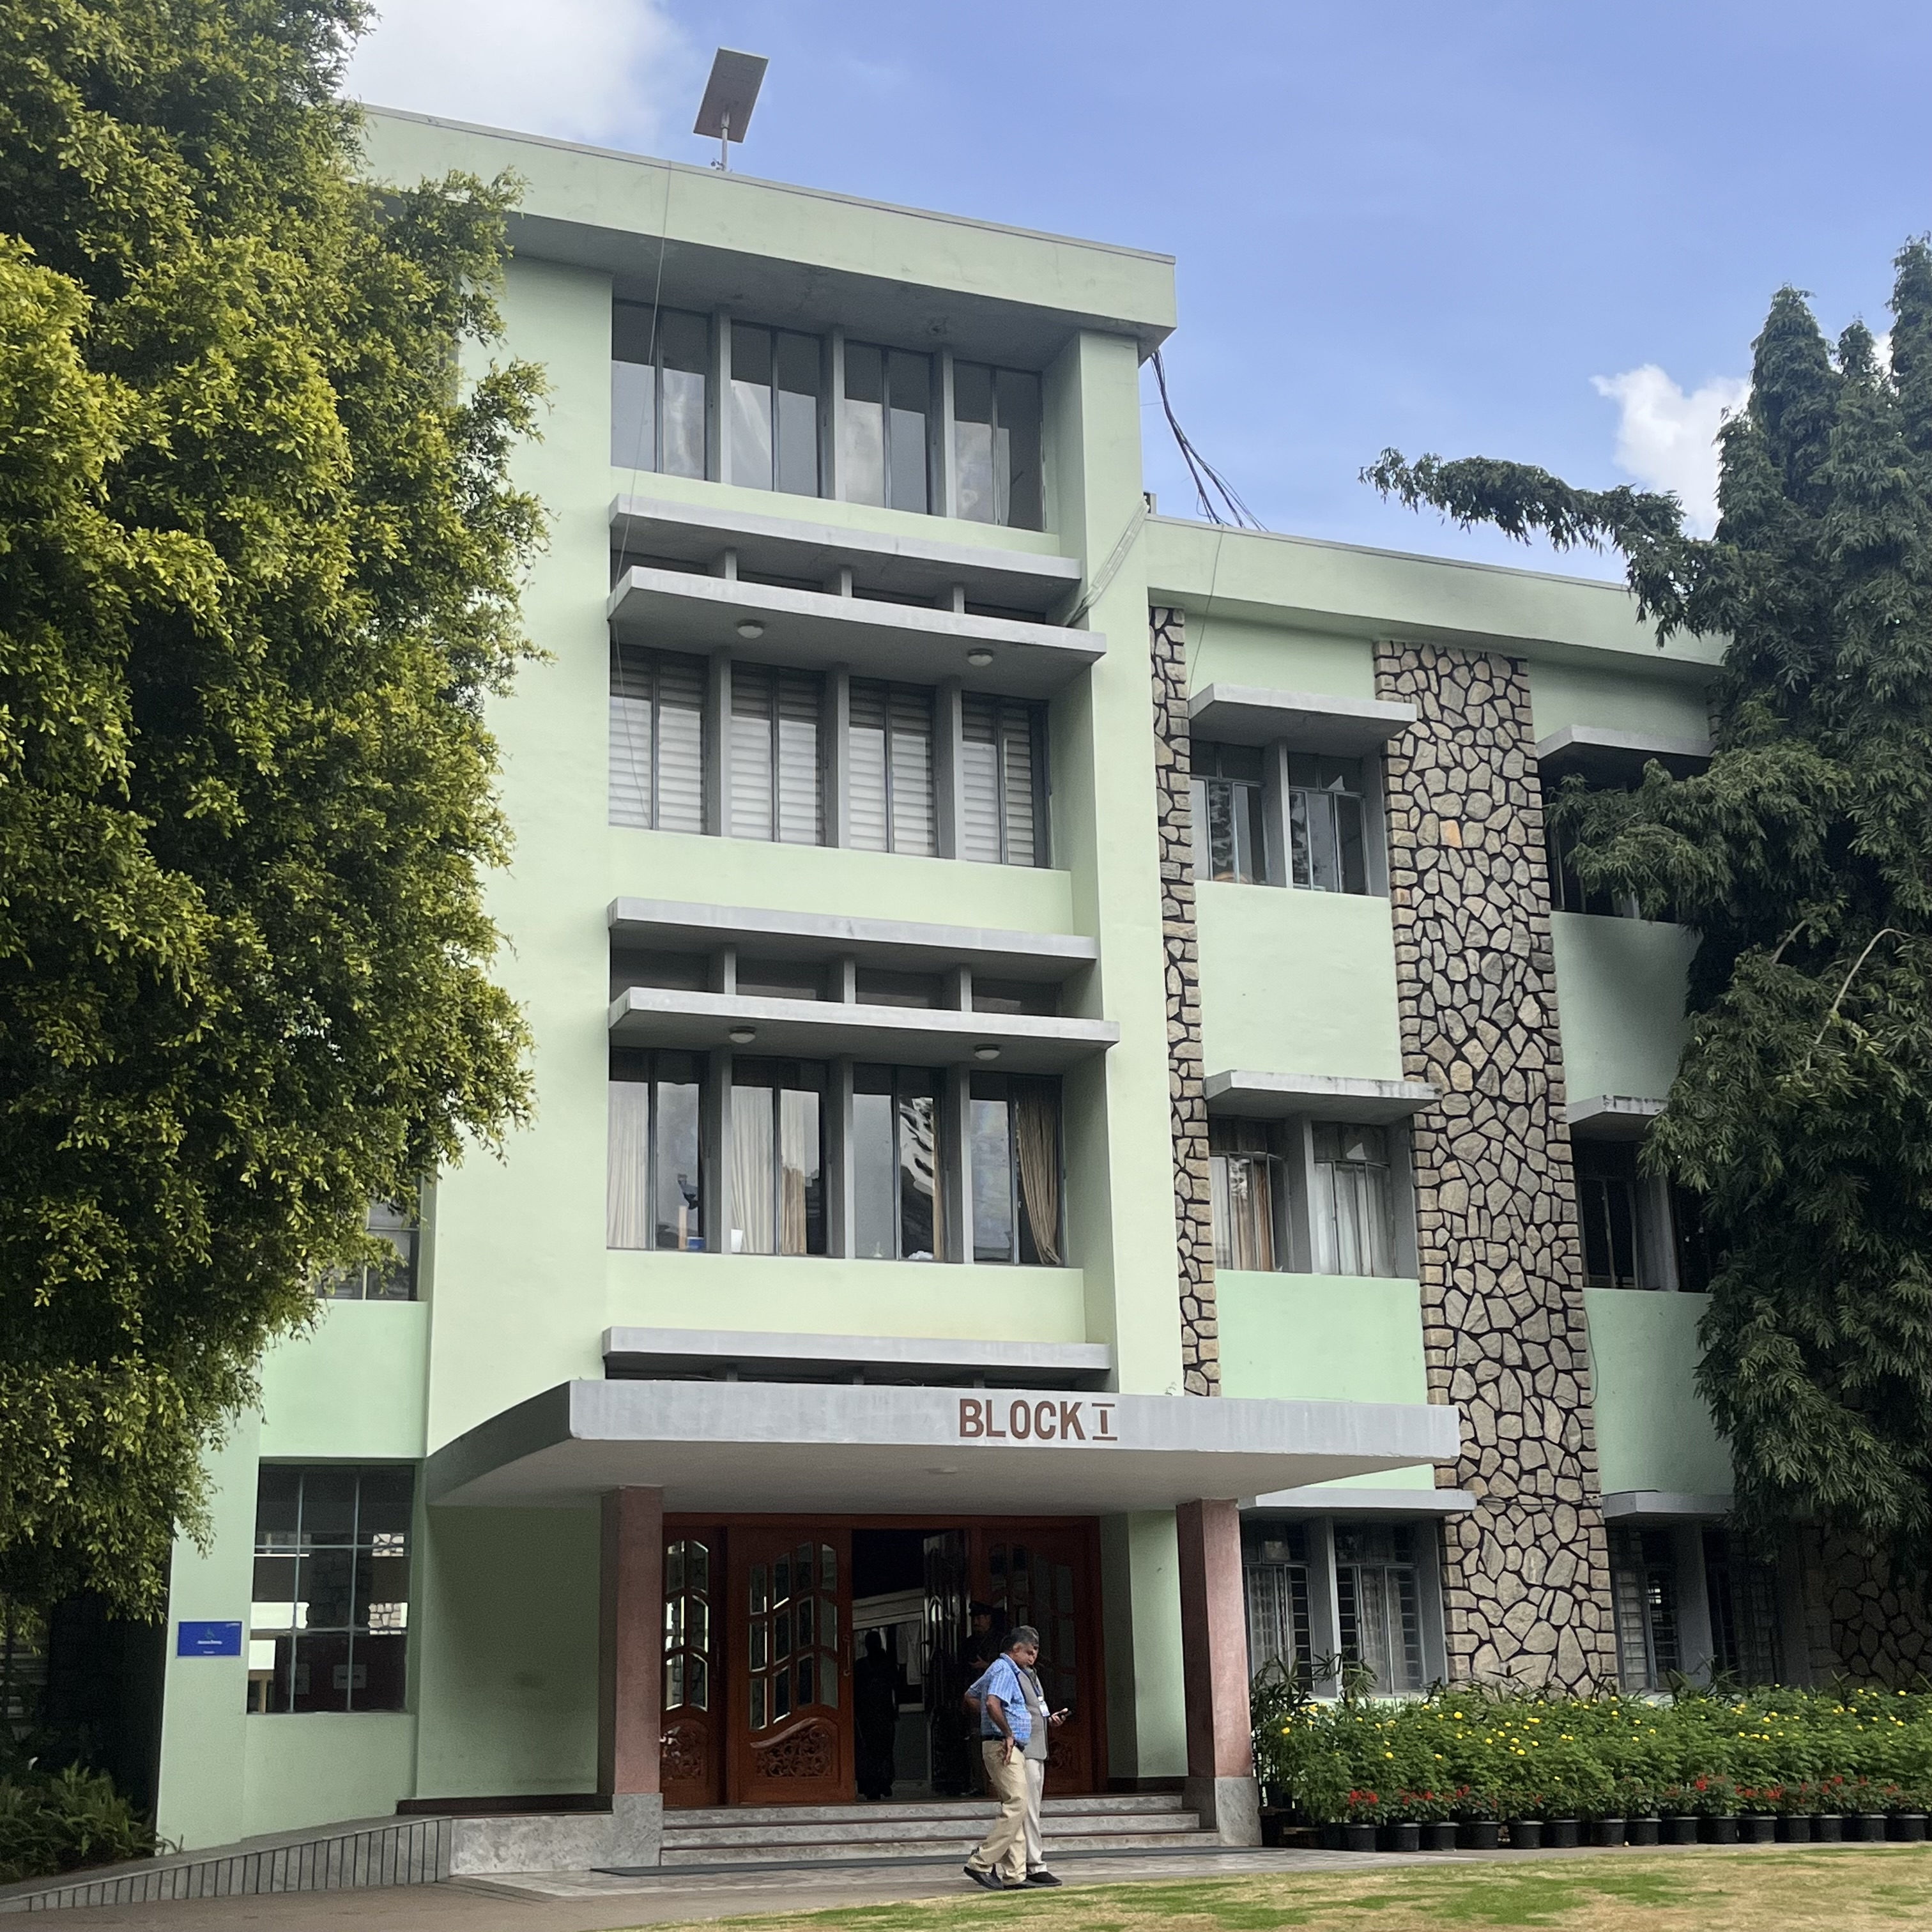Block 1: (467, 71, 1737, 1746)
